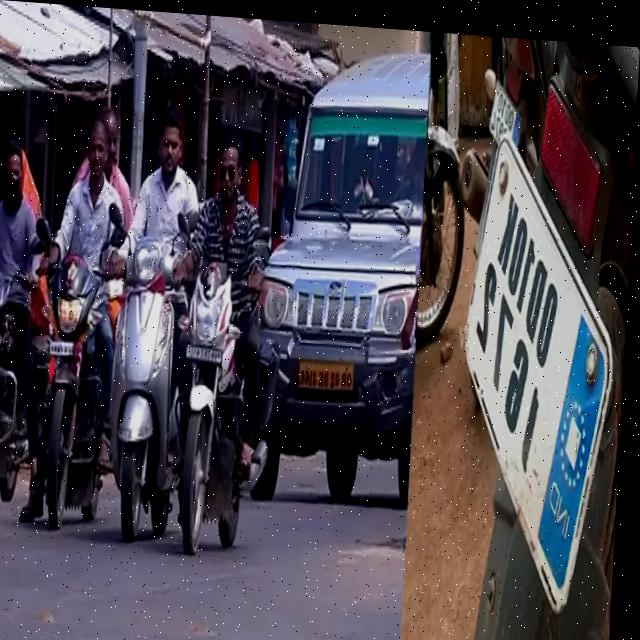plate: (453, 112, 630, 610), (486, 63, 527, 148), (299, 348, 360, 390), (187, 338, 228, 361), (53, 336, 82, 358), (0, 329, 11, 348)
